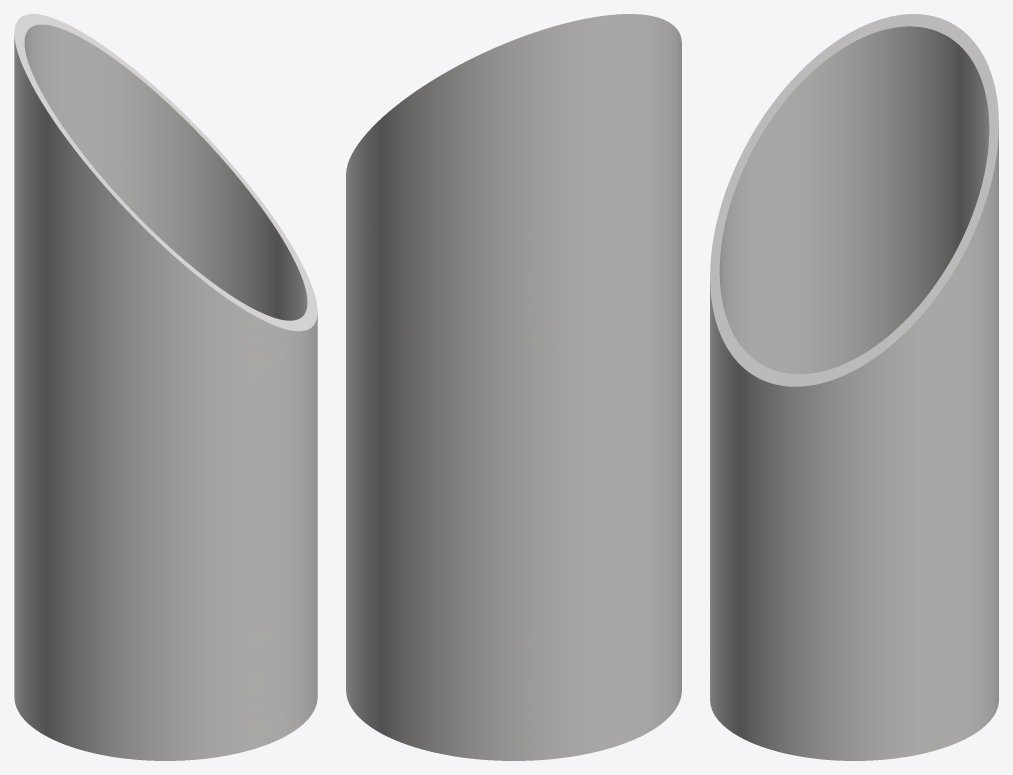
File: 05_pesec_bila.glb
The picture shows the model from 3 angles, left to right: view 1: azimuth 30°, elevation 25°; view 2: azimuth 150°, elevation 25°; view 3: azimuth 270°, elevation 25°; orthographic projection. The views are drawn at different scales.
Parts seen in each view (by area): view 1: 05_pesec_bila; view 2: 05_pesec_bila; view 3: 05_pesec_bila.
Part boxes in pixels (box(x1,y1,x2,y2)): 05_pesec_bila: box(14, 14, 317, 760); 05_pesec_bila: box(346, 14, 681, 760); 05_pesec_bila: box(710, 14, 998, 760).
Size of the model in its own units: 0.03 by 0.0725 by 0.03.
Materials: 1 (1 with a texture image).
